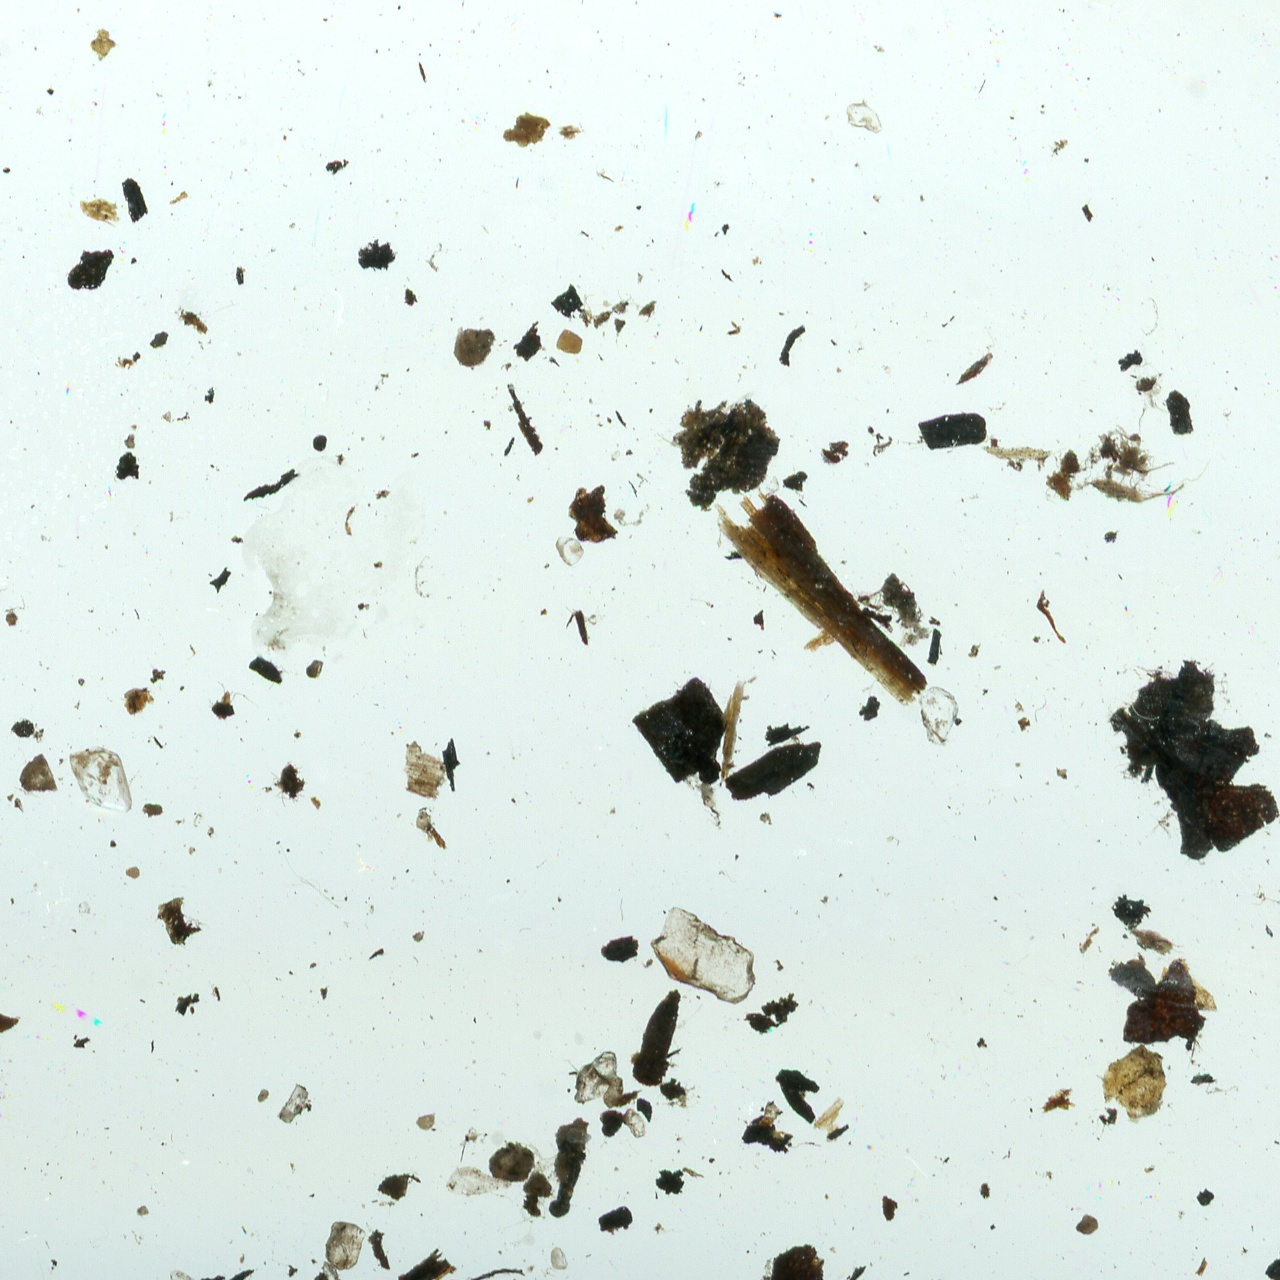arthropod: (694, 775, 722, 830)
